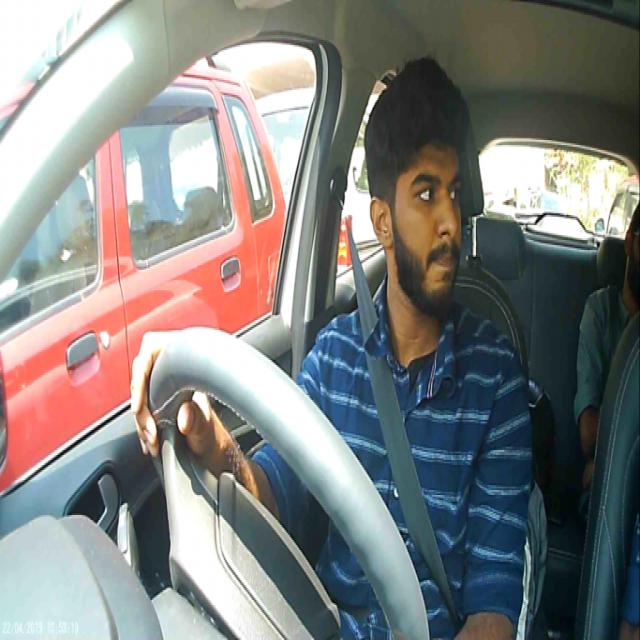seatbelt: (345, 302, 502, 625)
